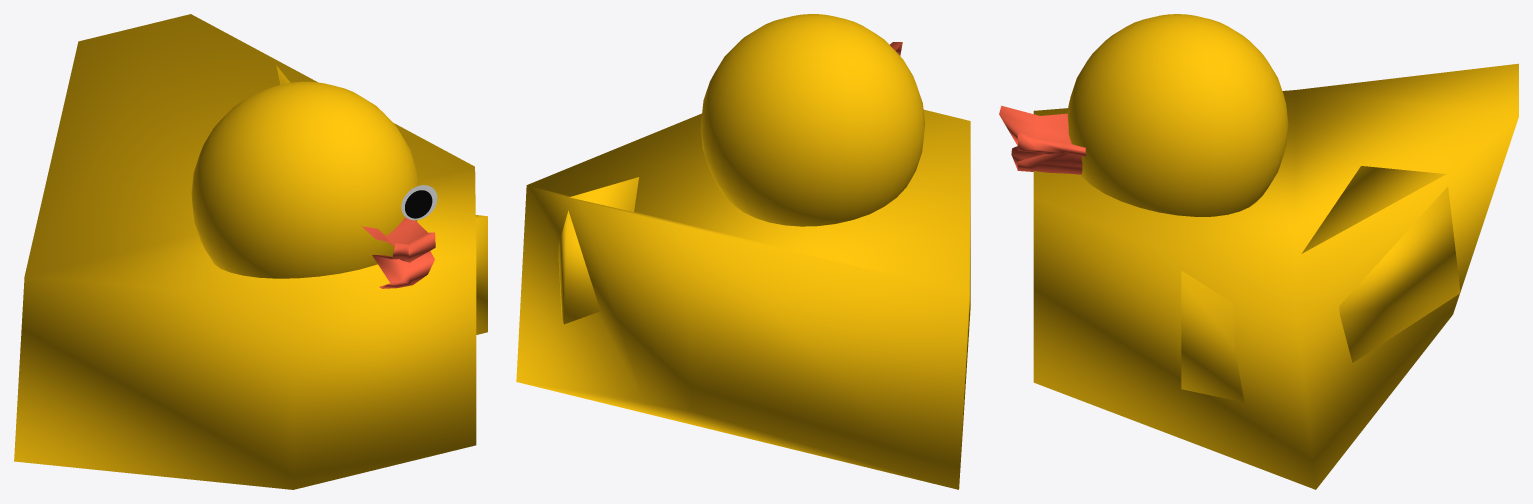
File: duck2.glb
3 renders of one model, left to right at view 1: azimuth 30°, elevation 25°; view 2: azimuth 150°, elevation 25°; view 3: azimuth 270°, elevation 25°, orthographic. The views are drawn at different scales.
Parts seen in each view (by area): view 1: Cube, 球, 立方体.001, 立方体, 円.001; view 2: Cube, 球, 立方体; view 3: Cube, 球, 立方体, 立方体.001.
Part boxes in pixels (left/top/right/bottom): Cube: left=14, top=14, right=476, bottom=489; 球: left=191, top=81, right=418, bottom=278; 立方体.001: left=362, top=217, right=435, bottom=288; 立方体: left=276, top=65, right=487, bottom=334; 円.001: left=405, top=190, right=432, bottom=218; Cube: left=516, top=109, right=970, bottom=489; 球: left=700, top=14, right=924, bottom=226; 立方体: left=558, top=177, right=638, bottom=324; Cube: left=1033, top=63, right=1518, bottom=489; 球: left=1067, top=14, right=1288, bottom=216; 立方体: left=1181, top=166, right=1460, bottom=402; 立方体.001: left=999, top=105, right=1086, bottom=174.
Bounding box in the file's own units: 2.47 × 1.92 × 2.54.
